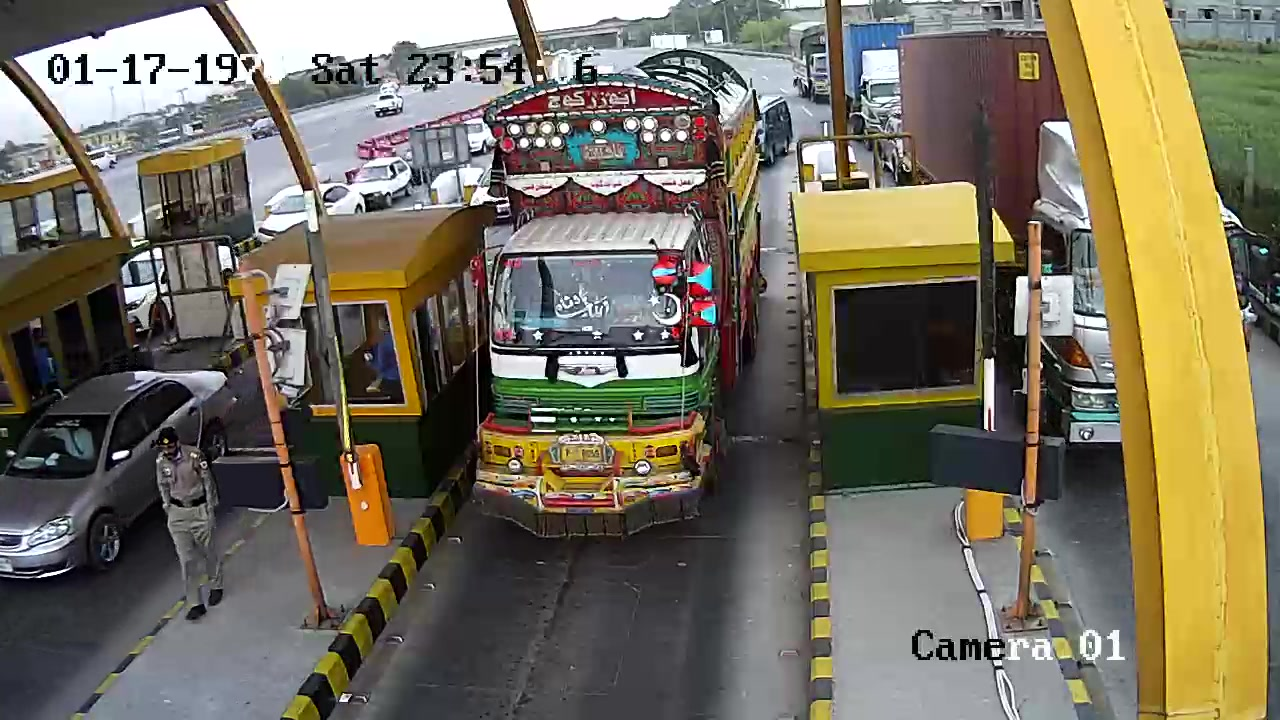F5: (461, 47, 786, 540)
